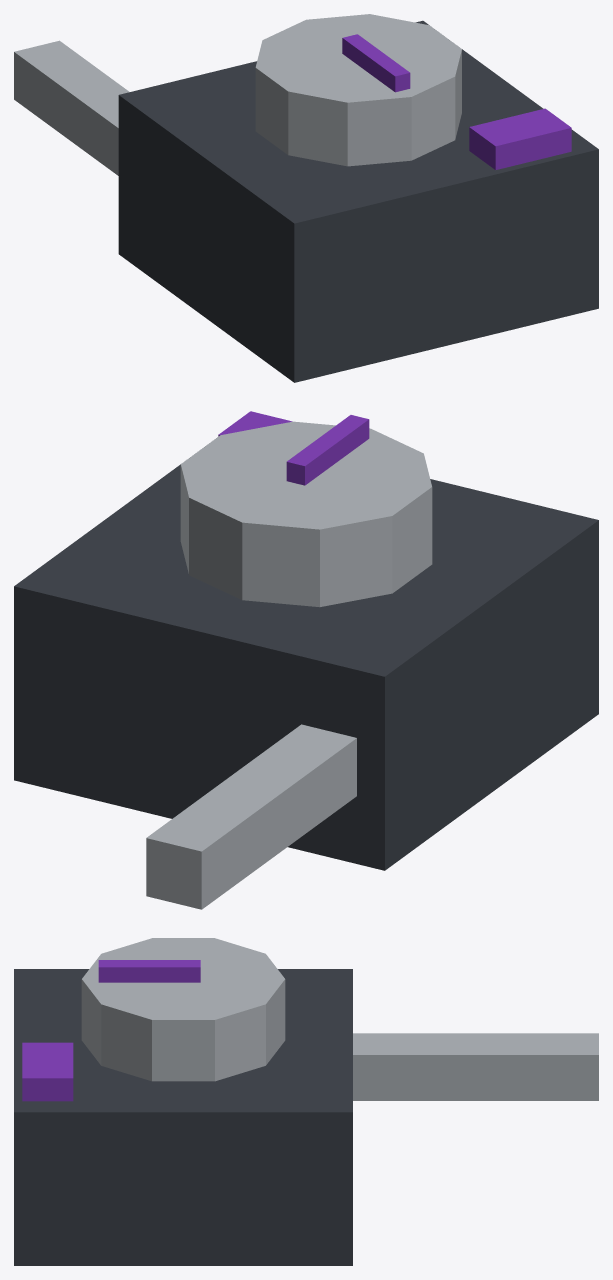
File: calibrator-panic.glb
3 views of the same model, one above another, from view 1: azimuth 30°, elevation 25°; view 2: azimuth 150°, elevation 25°; view 3: azimuth 270°, elevation 25° (orthographic). The views are drawn at different scales.
Parts seen in each view (by area): view 1: m; view 2: m; view 3: m.
Part boxes in pixels (x1=…): m: x1=14, y1=14, x2=598, y2=382; m: x1=14, y1=411, x2=598, y2=909; m: x1=14, y1=938, x2=598, y2=1265.
Bounding box in the file's own units: 0.0406 × 0.0304 × 0.07.
